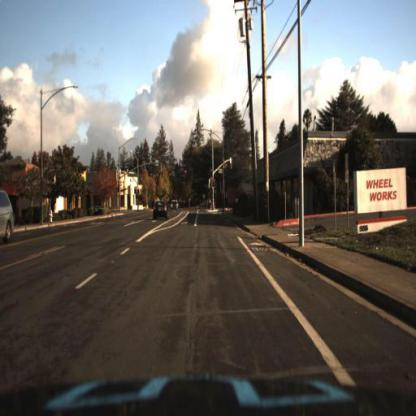car: (1, 189, 15, 245), (152, 199, 170, 223), (169, 198, 181, 214), (170, 201, 180, 211)
trafficLight-Red: (183, 169, 189, 182)
trafficLight-RedLeft: (134, 183, 139, 195)
